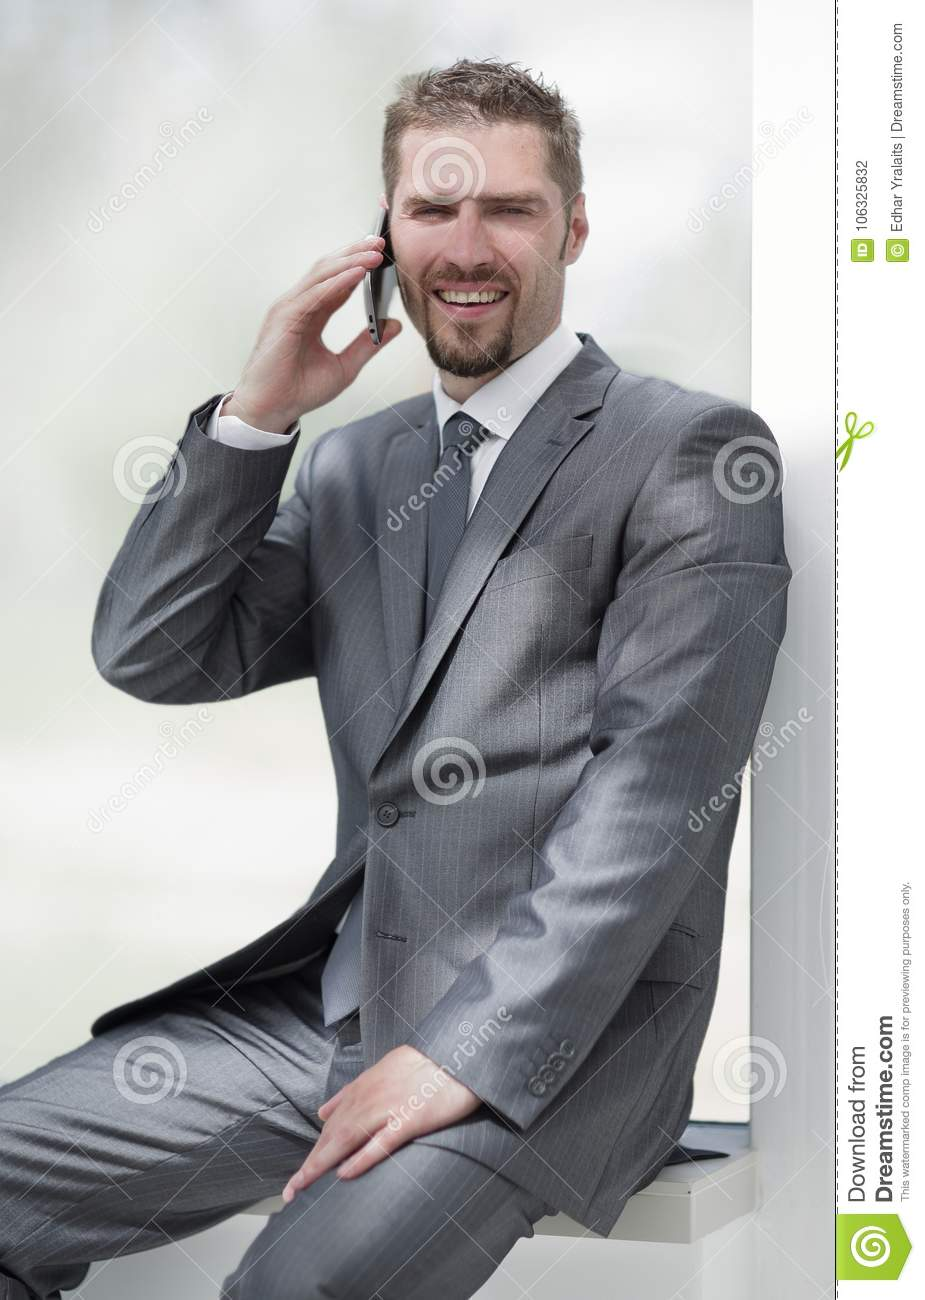phone: (353, 198, 403, 350)
talk: (241, 177, 552, 417)
